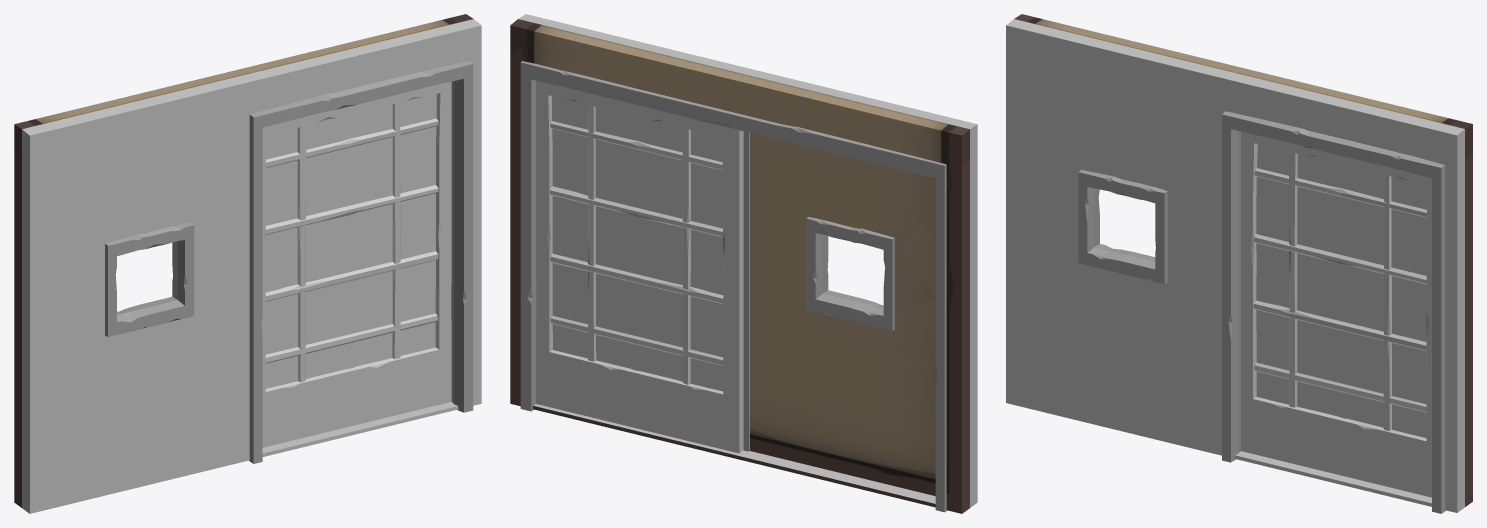
File: SM_Bld_Sliding_Door_03.fbx
3 renders of one model, left to right at view 1: azimuth 30°, elevation 25°; view 2: azimuth 150°, elevation 25°; view 3: azimuth 330°, elevation 25°, orthographic.
Visible parts, largest first — view 1: SM_Bld_Sliding_Door_03, SM_Bld_Sliding_Door_03_Door_01_Glass; view 2: SM_Bld_Sliding_Door_03, SM_Bld_Sliding_Door_03_Door_01_Glass; view 3: SM_Bld_Sliding_Door_03, SM_Bld_Sliding_Door_03_Door_01_Glass.
Boxes of the visible parts, x1,y1,x2,y2 form: SM_Bld_Sliding_Door_03: (14,14,481,513); SM_Bld_Sliding_Door_03_Door_01_Glass: (265,94,436,388); SM_Bld_Sliding_Door_03: (510,14,977,513); SM_Bld_Sliding_Door_03_Door_01_Glass: (552,96,723,391); SM_Bld_Sliding_Door_03: (1006,14,1472,513); SM_Bld_Sliding_Door_03_Door_01_Glass: (1256,144,1427,438).
Size of the model in its own units: 375 by 301 by 30.42.
